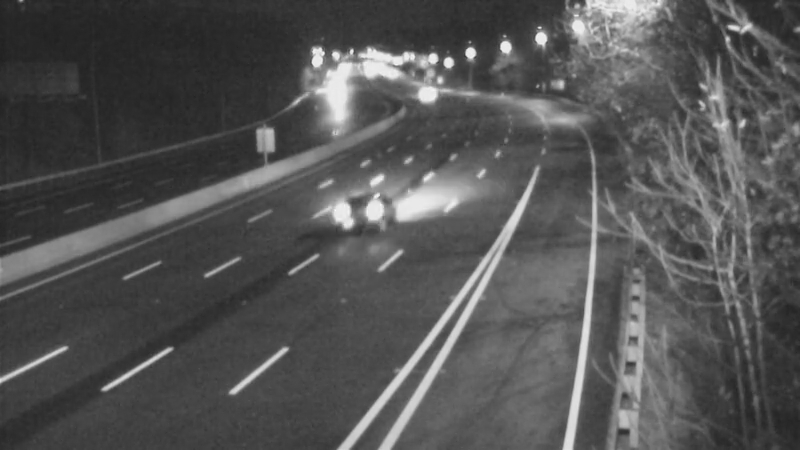vehicle: (334, 173, 414, 253), (400, 71, 450, 121), (304, 71, 354, 121)
